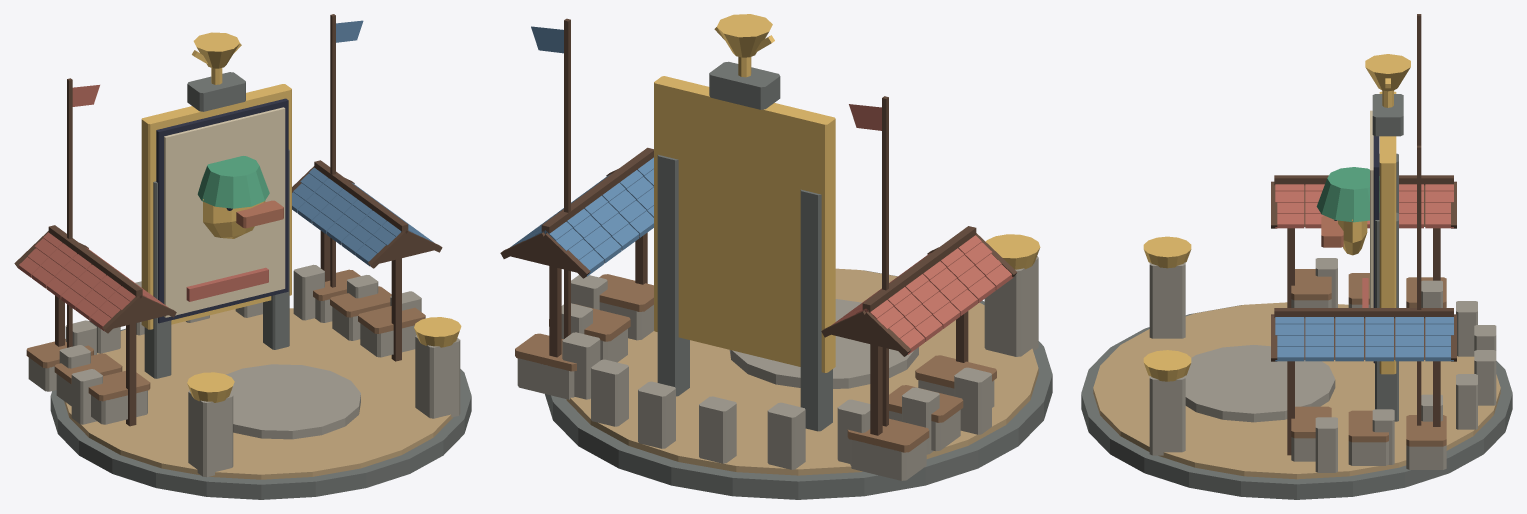
The model's file is ENV_Landmark_battle_LOD0.glb.
The picture shows the model from 3 angles, left to right: view 1: azimuth 30°, elevation 25°; view 2: azimuth 150°, elevation 25°; view 3: azimuth 270°, elevation 25°; orthographic projection. The views are drawn at different scales.
Parts seen in each view (by area): view 1: ENV_Landmark_battle_LOD0_s3-6_sand, ENV_Landmark_battle_LOD0_s4-6_stone, ENV_Landmark_battle_LOD0_s3-6_plasterIvory, ENV_Landmark_battle_LOD0_s3-6_stoneDark, ENV_Landmark_battle_LOD0_s4-6_woodDark, ENV_Landmark_battle_LOD0_s3-6_gold, ENV_Landmark_battle_LOD0_s3-6_woodLight, ENV_Landmark_battle_LOD0_s4-6_red, ENV_Landmark_battle_LOD0_s4-6_blue, ENV_Landmark_battle_LOD0_s3-6_stone, ENV_Landmark_battle_LOD0_s3-6_ink, ENV_Landmark_battle_LOD0_s3-6_emerald (+7 smaller); view 2: ENV_Landmark_battle_LOD0_s3-6_gold, ENV_Landmark_battle_LOD0_s4-6_stone, ENV_Landmark_battle_LOD0_s3-6_stoneDark, ENV_Landmark_battle_LOD0_s3-6_sand, ENV_Landmark_battle_LOD0_s4-6_woodDark, ENV_Landmark_battle_LOD0_s4-6_red, ENV_Landmark_battle_LOD0_s3-6_woodLight, ENV_Landmark_battle_LOD0_s3-6_stone, ENV_Landmark_battle_LOD0_s4-6_blue, ENV_Landmark_battle_LOD0_s5-6_woodDark, ENV_Landmark_battle_LOD0_s6-6_stoneDark, ENV_Landmark_battle_LOD0_s6-6_gold (+3 smaller); view 3: ENV_Landmark_battle_LOD0_s3-6_sand, ENV_Landmark_battle_LOD0_s4-6_stone, ENV_Landmark_battle_LOD0_s3-6_stoneDark, ENV_Landmark_battle_LOD0_s4-6_blue, ENV_Landmark_battle_LOD0_s4-6_woodDark, ENV_Landmark_battle_LOD0_s3-6_woodLight, ENV_Landmark_battle_LOD0_s4-6_red, ENV_Landmark_battle_LOD0_s3-6_gold, ENV_Landmark_battle_LOD0_s3-6_stone, ENV_Landmark_battle_LOD0_s3-6_emerald, ENV_Landmark_battle_LOD0_s4-6_gold, ENV_Landmark_battle_LOD0_s5-6_woodDark (+5 smaller).
Boxes of the visible parts, <box> form: ENV_Landmark_battle_LOD0_s3-6_sand: <box>64,308,452,479</box>; ENV_Landmark_battle_LOD0_s4-6_stone: <box>59,264,460,477</box>; ENV_Landmark_battle_LOD0_s3-6_plasterIvory: <box>164,107,285,317</box>; ENV_Landmark_battle_LOD0_s3-6_stoneDark: <box>50,149,471,499</box>; ENV_Landmark_battle_LOD0_s4-6_woodDark: <box>14,160,442,426</box>; ENV_Landmark_battle_LOD0_s3-6_gold: <box>141,84,291,329</box>; ENV_Landmark_battle_LOD0_s3-6_woodLight: <box>26,269,425,401</box>; ENV_Landmark_battle_LOD0_s4-6_red: <box>17,232,167,331</box>; ENV_Landmark_battle_LOD0_s4-6_blue: <box>292,167,433,266</box>; ENV_Landmark_battle_LOD0_s3-6_stone: <box>28,298,416,424</box>; ENV_Landmark_battle_LOD0_s3-6_ink: <box>156,98,288,323</box>; ENV_Landmark_battle_LOD0_s3-6_emerald: <box>197,156,269,208</box>; ENV_Landmark_battle_LOD0_s3-6_gold: <box>654,76,835,372</box>; ENV_Landmark_battle_LOD0_s4-6_stone: <box>561,256,1038,469</box>; ENV_Landmark_battle_LOD0_s3-6_stoneDark: <box>545,154,1052,499</box>; ENV_Landmark_battle_LOD0_s3-6_sand: <box>566,268,1038,475</box>; ENV_Landmark_battle_LOD0_s4-6_woodDark: <box>500,147,1017,435</box>; ENV_Landmark_battle_LOD0_s4-6_red: <box>831,235,1013,354</box>; ENV_Landmark_battle_LOD0_s3-6_woodLight: <box>515,274,996,452</box>; ENV_Landmark_battle_LOD0_s3-6_stone: <box>517,302,994,480</box>; ENV_Landmark_battle_LOD0_s4-6_blue: <box>511,157,653,276</box>; ENV_Landmark_battle_LOD0_s5-6_woodDark: <box>564,18,888,426</box>; ENV_Landmark_battle_LOD0_s6-6_stoneDark: <box>709,61,780,109</box>; ENV_Landmark_battle_LOD0_s6-6_gold: <box>714,14,774,77</box>; ENV_Landmark_battle_LOD0_s3-6_sand: <box>1093,302,1500,479</box>; ENV_Landmark_battle_LOD0_s4-6_stone: <box>1149,258,1496,472</box>; ENV_Landmark_battle_LOD0_s3-6_stoneDark: <box>1081,153,1512,499</box>; ENV_Landmark_battle_LOD0_s4-6_blue: <box>1275,317,1453,361</box>; ENV_Landmark_battle_LOD0_s4-6_woodDark: <box>1271,175,1456,455</box>; ENV_Landmark_battle_LOD0_s3-6_woodLight: <box>1291,269,1446,446</box>; ENV_Landmark_battle_LOD0_s4-6_red: <box>1275,184,1453,228</box>; ENV_Landmark_battle_LOD0_s3-6_gold: <box>1338,91,1396,374</box>; ENV_Landmark_battle_LOD0_s3-6_stone: <box>1291,299,1446,469</box>; ENV_Landmark_battle_LOD0_s3-6_emerald: <box>1316,167,1379,222</box>; ENV_Landmark_battle_LOD0_s4-6_gold: <box>1143,236,1191,381</box>; ENV_Landmark_battle_LOD0_s5-6_woodDark: <box>1417,14,1421,425</box>.
Size of the model in its own units: 9 by 7.93 by 9.
